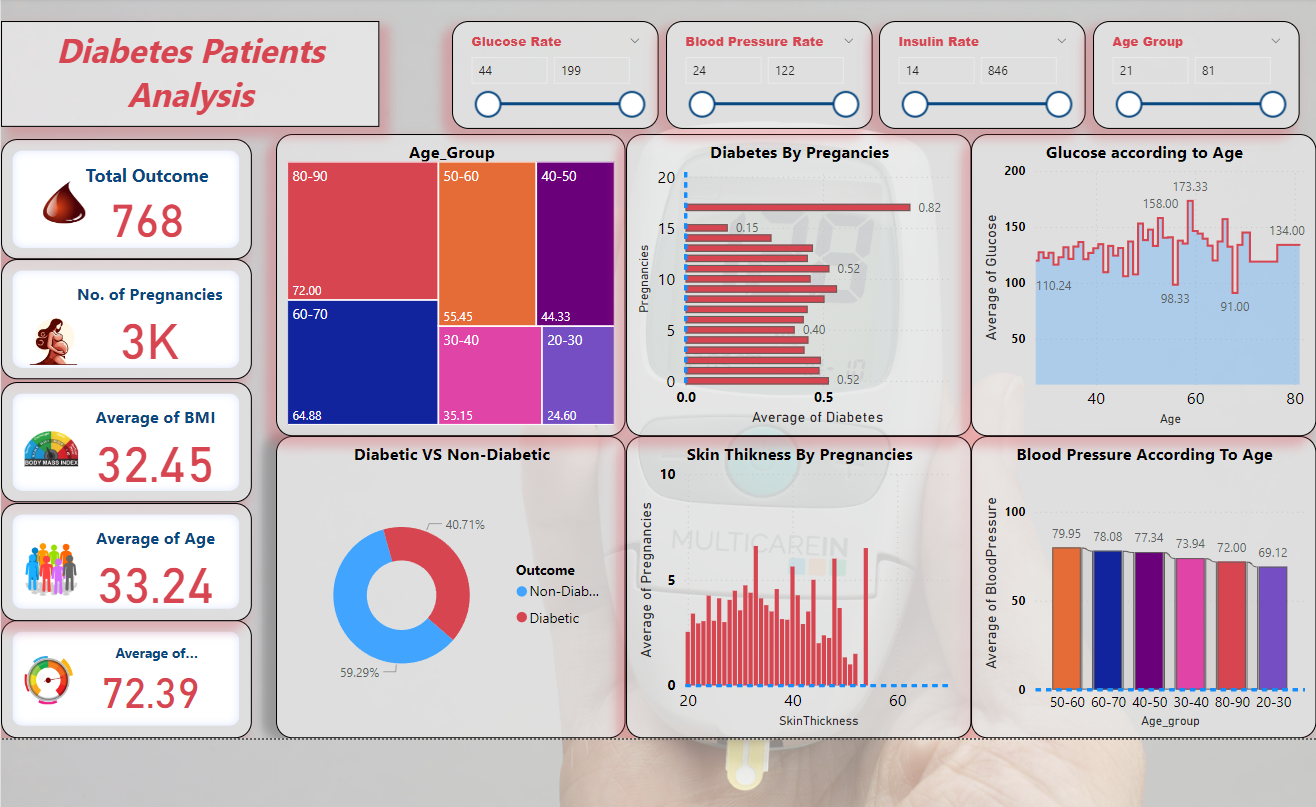

Layout of this report page (visuals, bound fields, positions):
{"tool":"powerbi","page":{"name":"Page 1","canvas":[1280,720],"ordinal":0},"visuals":[{"type":"columnChart","title":"Blood Pressure According To Age","fields":{"Y":["Avg(Diabetes_cleaned.BloodPressure)"],"Category":["Diabetes_cleaned.Age_group"]},"box":[936.7,426,336.5,293.7],"z":0},{"type":"donutChart","title":"Diabetic VS Non-Diabetic","fields":{"Category":["Diabetes_cleaned.Outcome"],"Y":["Sum(Diabetes_cleaned.DiabetesPedigreeFunction)"]},"box":[260.7,426,340.4,293.7],"z":1000},{"type":"clusteredColumnChart","title":"Skin Thikness By Pregnancies","fields":{"Category":["Diabetes_cleaned.SkinThickness"],"Y":["Avg(Diabetes_cleaned.Pregnancies)"]},"box":[601.1,426,335.6,293.7],"z":2000},{"type":"treemap","title":"Age_Group","fields":{"Group":["Diabetes_cleaned.Age_group"],"Values":["Avg(Diabetes_cleaned.Age)"]},"box":[260.7,132.3,340.4,293.7],"z":3000},{"type":"clusteredBarChart","title":"Diabetes By Pregancies","fields":{"Y":["Avg(Diabetes_cleaned.DiabetesPedigreeFunction)"],"Category":["Diabetes_cleaned.Pregnancies"]},"box":[601.1,132.3,335.6,293.7],"z":4000},{"type":"areaChart","title":"Glucose according to Age","fields":{"Category":["Diabetes_cleaned.Age"],"Y":["Avg(Diabetes_cleaned.Glucose)"]},"box":[936.7,132.3,336.5,293.7],"z":5000},{"type":"slicer","title":"Blood Pressure According To Age","fields":{"Values":["Diabetes_cleaned.Glucose"]},"box":[438.8,22.4,201.5,104.8],"z":6000},{"type":"slicer","title":"Blood Pressure According To Age","fields":{"Values":["Diabetes_cleaned.BloodPressure"]},"box":[646.6,22.4,201.5,104.8],"z":7000},{"type":"slicer","title":"Blood Pressure According To Age","fields":{"Values":["Diabetes_cleaned.Insulin"]},"box":[854.3,22.4,201.5,104.8],"z":8000},{"type":"slicer","title":"Blood Pressure According To Age","fields":{"Values":["Diabetes_cleaned.Age"]},"box":[1062.1,22.4,201.5,104.8],"z":9000},{"type":"cardVisual","title":"Blood Pressure According To Age","fields":{"Data":["CountNonNull(Diabetes_cleaned.Outcome)"]},"box":[0,137,243.6,117.3],"z":10000},{"type":"cardVisual","title":"Blood Pressure According To Age","fields":{"Data":["Sum(Diabetes_cleaned.Pregnancies)"]},"box":[0,254.3,243.6,117.3],"z":11000},{"type":"cardVisual","title":"Blood Pressure According To Age","fields":{"Data":["Avg(Diabetes_cleaned.BloodPressure)"]},"box":[0,605.4,243.6,114.6],"z":12000},{"type":"cardVisual","title":"Blood Pressure According To Age","fields":{"Data":["Avg(Diabetes_cleaned.BMI)"]},"box":[0,373.4,243.6,117.3],"z":13000},{"type":"cardVisual","title":"Blood Pressure According To Age","fields":{"Data":["Avg(Diabetes_cleaned.Age)"]},"box":[0,490.7,243.6,114.6],"z":14000},{"type":"textbox","box":[0,22.4,368.1,103],"z":15000}]}

Visuals, with their boxes in screenshot pixels (x1, y1, x2, y2):
"Blood Pressure According To Age" columnChart: [x1=963, y1=432, x2=1305, y2=730]
"Diabetic VS Non-Diabetic" donutChart: [x1=278, y1=432, x2=623, y2=730]
"Skin Thikness By Pregnancies" clusteredColumnChart: [x1=623, y1=432, x2=963, y2=730]
"Age_Group" treemap: [x1=278, y1=134, x2=623, y2=432]
"Diabetes By Pregancies" clusteredBarChart: [x1=623, y1=134, x2=963, y2=432]
"Glucose according to Age" areaChart: [x1=963, y1=134, x2=1305, y2=432]
"Blood Pressure According To Age" slicer: [x1=459, y1=23, x2=663, y2=129]
"Blood Pressure According To Age" slicer: [x1=669, y1=23, x2=874, y2=129]
"Blood Pressure According To Age" slicer: [x1=880, y1=23, x2=1084, y2=129]
"Blood Pressure According To Age" slicer: [x1=1091, y1=23, x2=1295, y2=129]
"Blood Pressure According To Age" cardVisual: [x1=14, y1=139, x2=261, y2=258]
"Blood Pressure According To Age" cardVisual: [x1=14, y1=258, x2=261, y2=377]
"Blood Pressure According To Age" cardVisual: [x1=14, y1=614, x2=261, y2=730]
"Blood Pressure According To Age" cardVisual: [x1=14, y1=379, x2=261, y2=498]
"Blood Pressure According To Age" cardVisual: [x1=14, y1=498, x2=261, y2=614]
textbox: [x1=14, y1=23, x2=387, y2=127]
